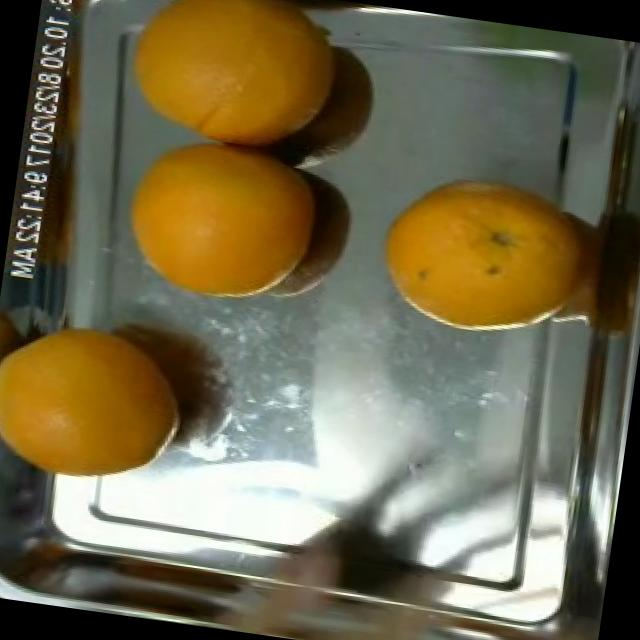Fruit: (94, 102, 346, 334), (361, 154, 575, 356)
